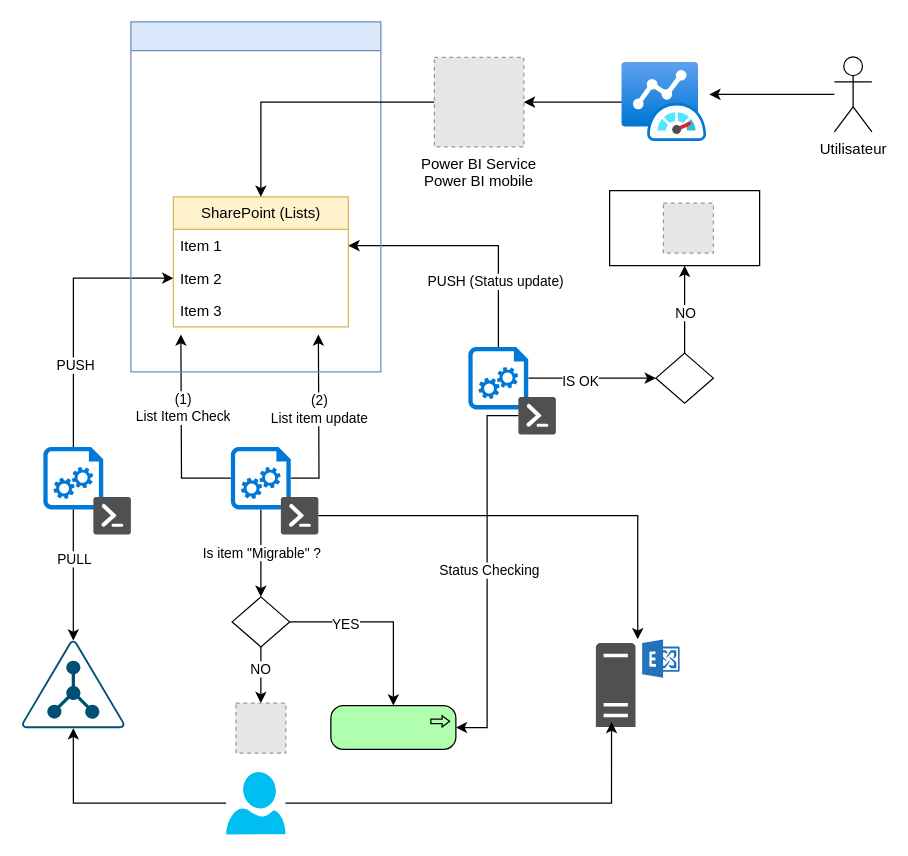
Image size: 908x856. Some labels were removed from this diagram. Grey dashed boxes stand in for pictures. Each missing label, with the centre of its shape:
"Migration" goes at pixel 393 726.
"SharePoint Site" goes at pixel 255 196.
